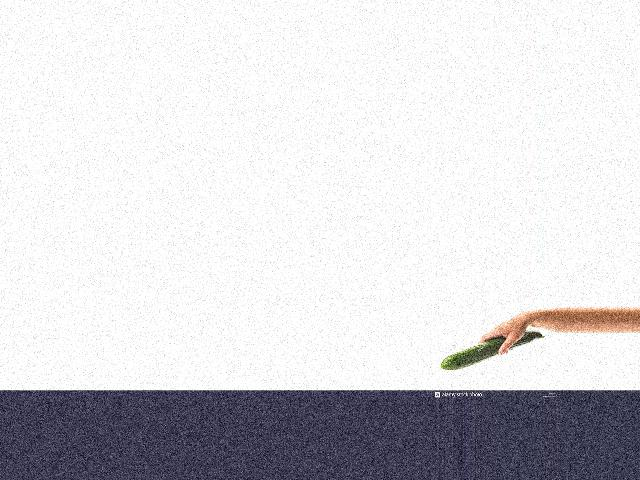cucumber: (440, 330, 545, 370)
